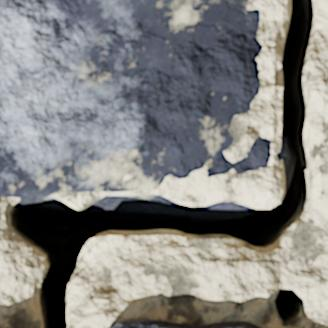brick: (0, 0, 270, 196), (110, 320, 258, 327), (277, 150, 282, 159)
crack: (0, 0, 325, 327)
